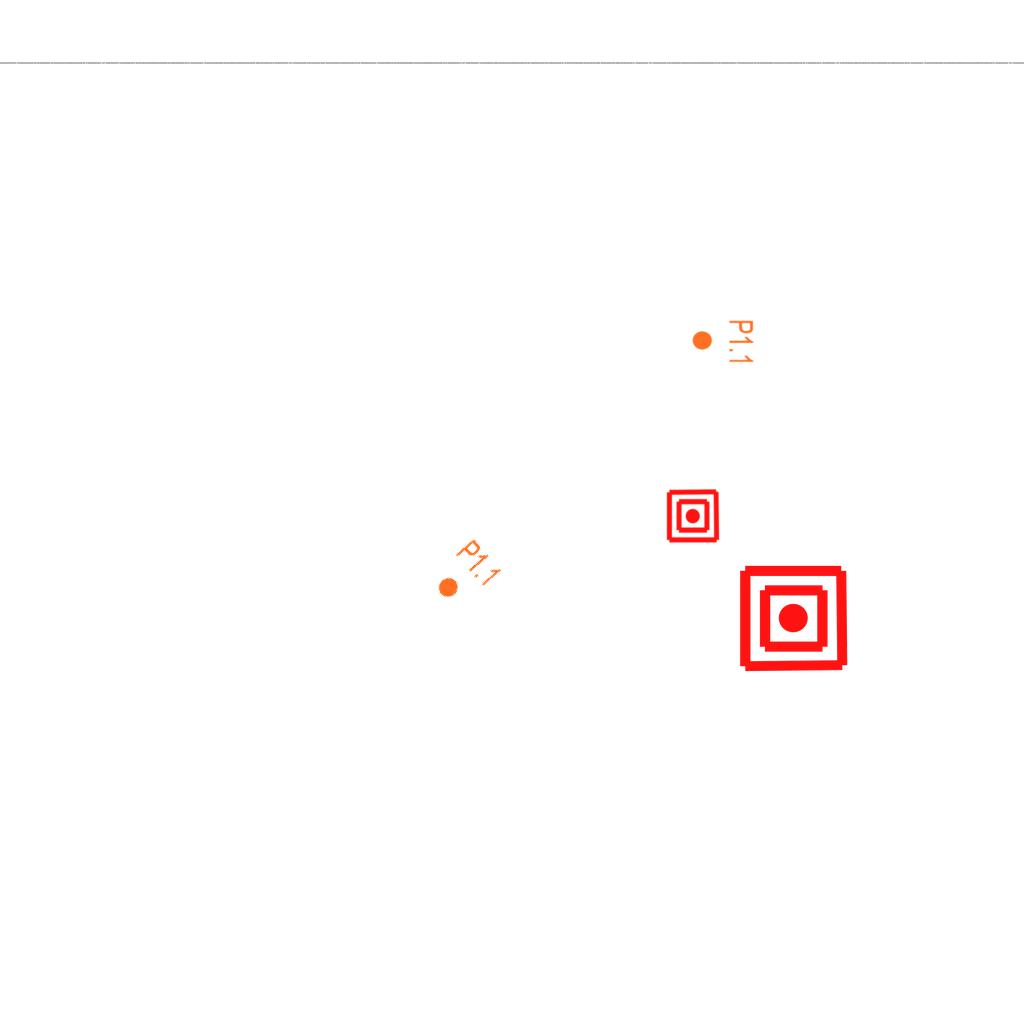Downlight_LED_Einbauleuchten_Flur: (425, 536, 505, 614), (691, 319, 755, 365)
NAM-Nichtautomatischer_Melder: (737, 562, 850, 675), (665, 488, 721, 544)
